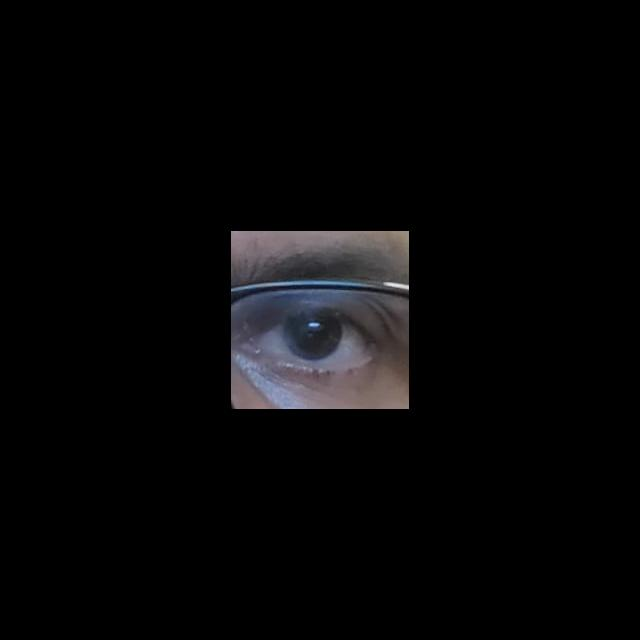eye: (259, 313, 372, 370)
iris: (284, 315, 343, 361)
